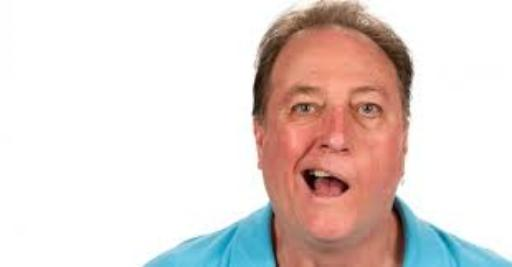left_eye: (357, 105, 384, 120)
left_lip_corner: (341, 178, 356, 193)
right_eye: (290, 102, 324, 117)
right_lip_corner: (294, 167, 309, 179)
